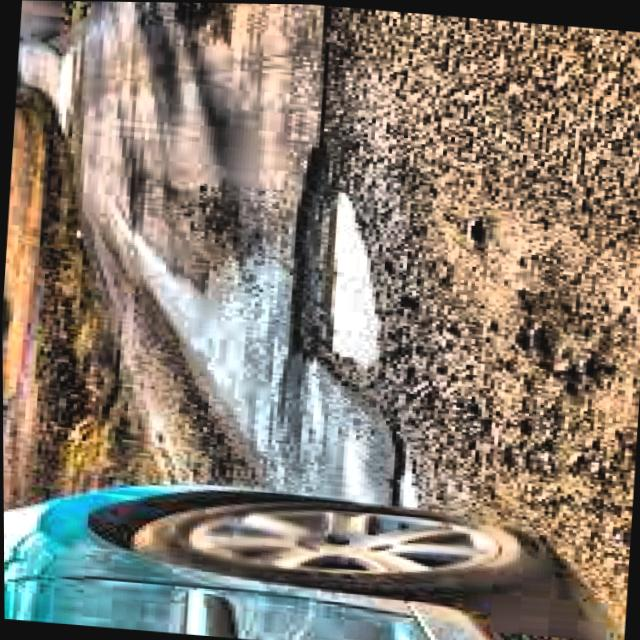pothole: (332, 191, 378, 364)
